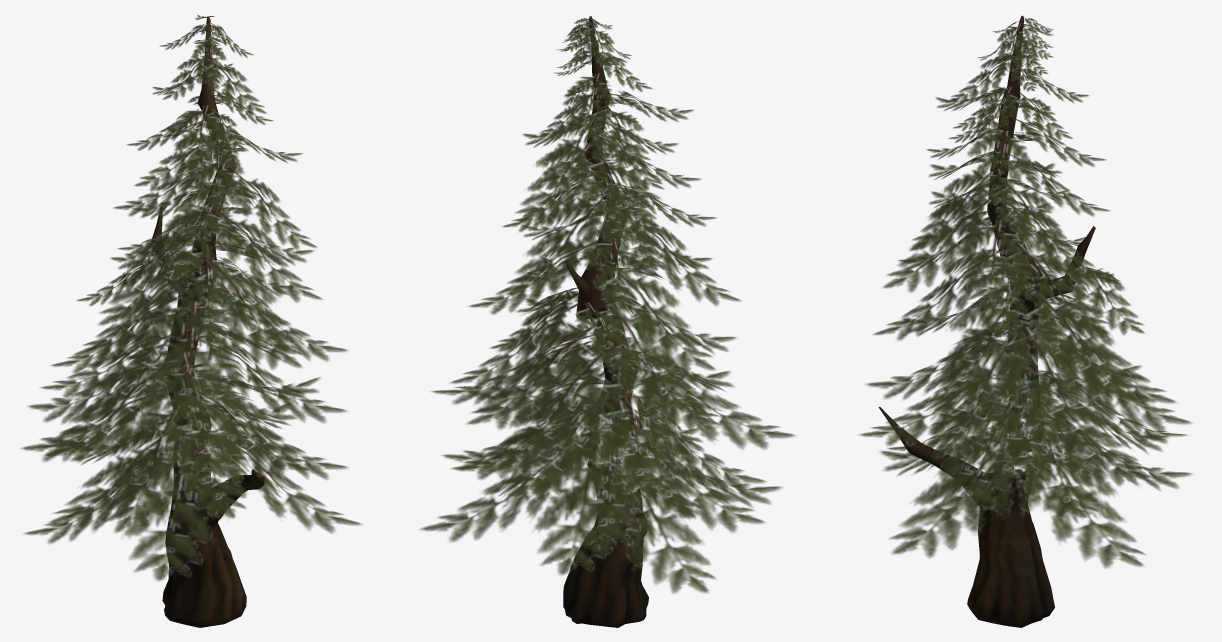
The model's file is tree2.glb.
3 renders of one model, left to right at view 1: azimuth 30°, elevation 25°; view 2: azimuth 150°, elevation 25°; view 3: azimuth 270°, elevation 25°, orthographic.
Visible parts, largest first — view 1: Tree; view 2: Tree; view 3: Tree.
Part boxes in pixels (bbox=[...]): Tree: bbox=[20, 15, 362, 627]; Tree: bbox=[419, 16, 796, 627]; Tree: bbox=[859, 15, 1192, 627].
Size of the model in its own units: 5.42 by 9.24 by 5.09.
Materials: 1 (1 with a texture image).
